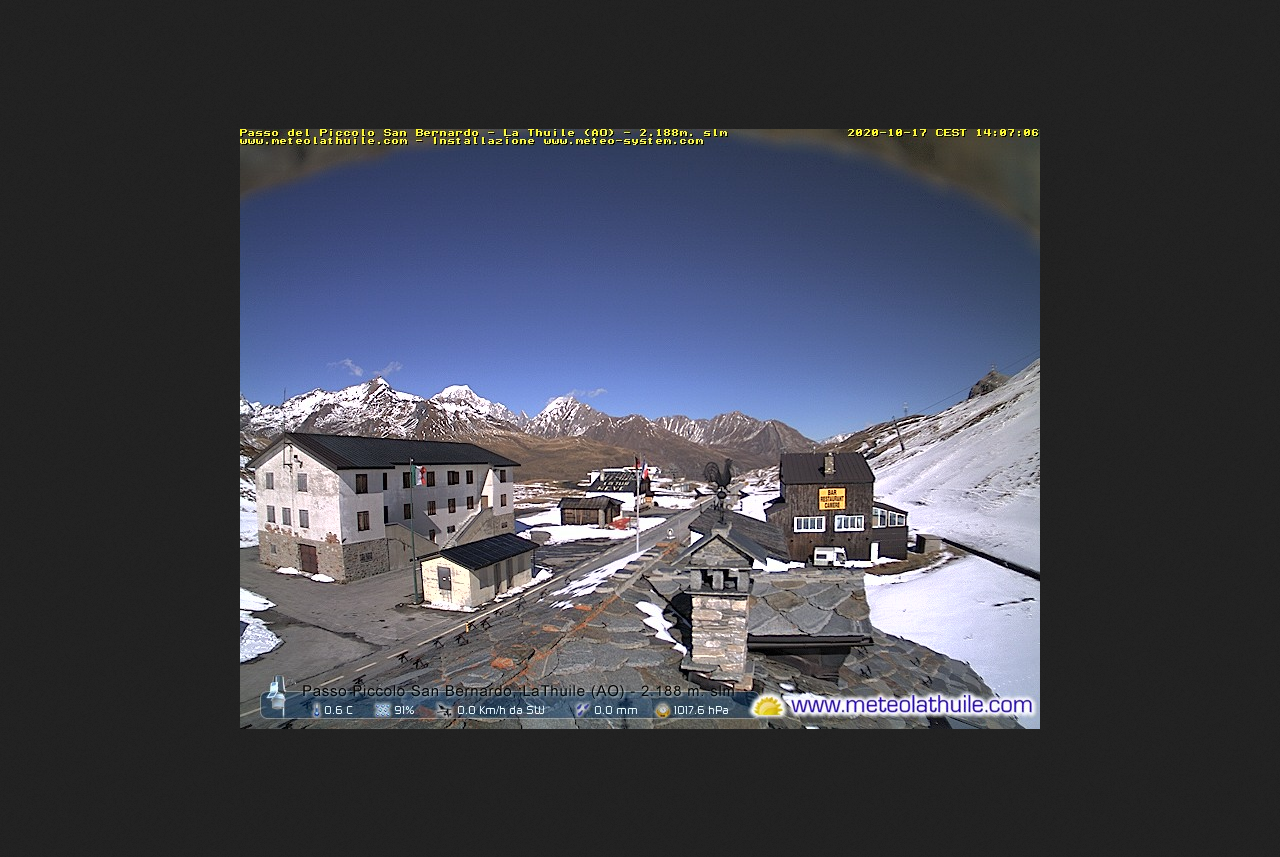maybe: (643, 457, 651, 480)
no: (632, 456, 640, 475)
yes: (409, 462, 430, 487)
